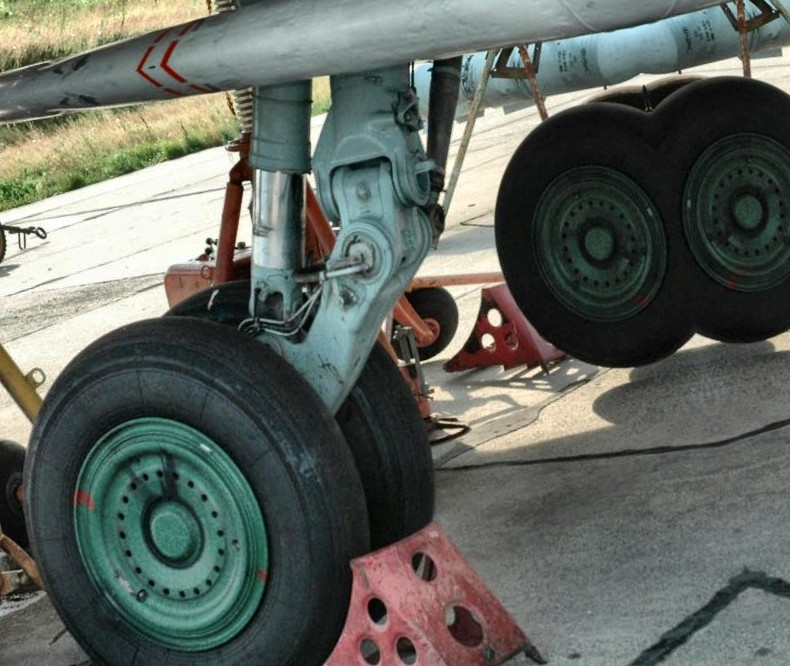chock: (271, 503, 555, 666)
wheel: (0, 281, 403, 666), (471, 85, 701, 392), (644, 48, 790, 356)
